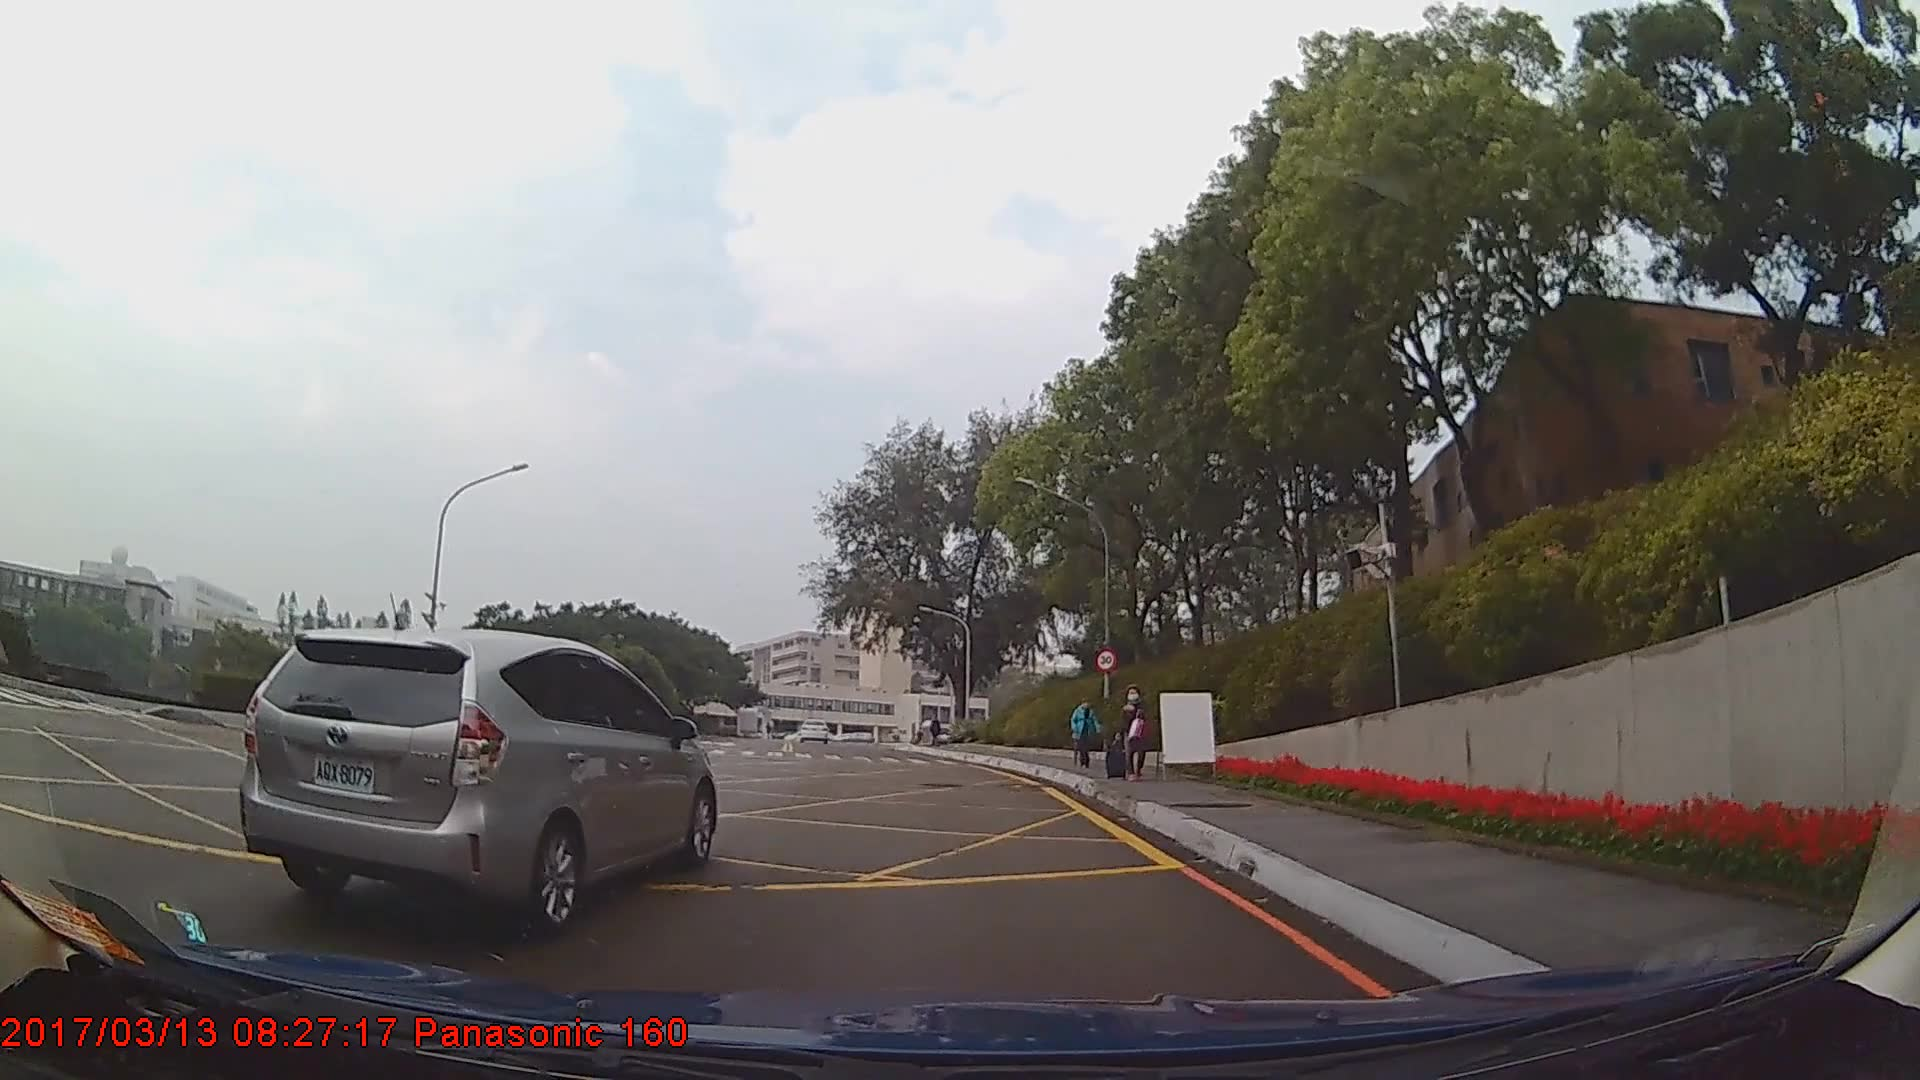pedestrian: (1110, 682, 1157, 778), (1072, 694, 1100, 771)
vehicle: (233, 626, 719, 936), (797, 715, 831, 742)
